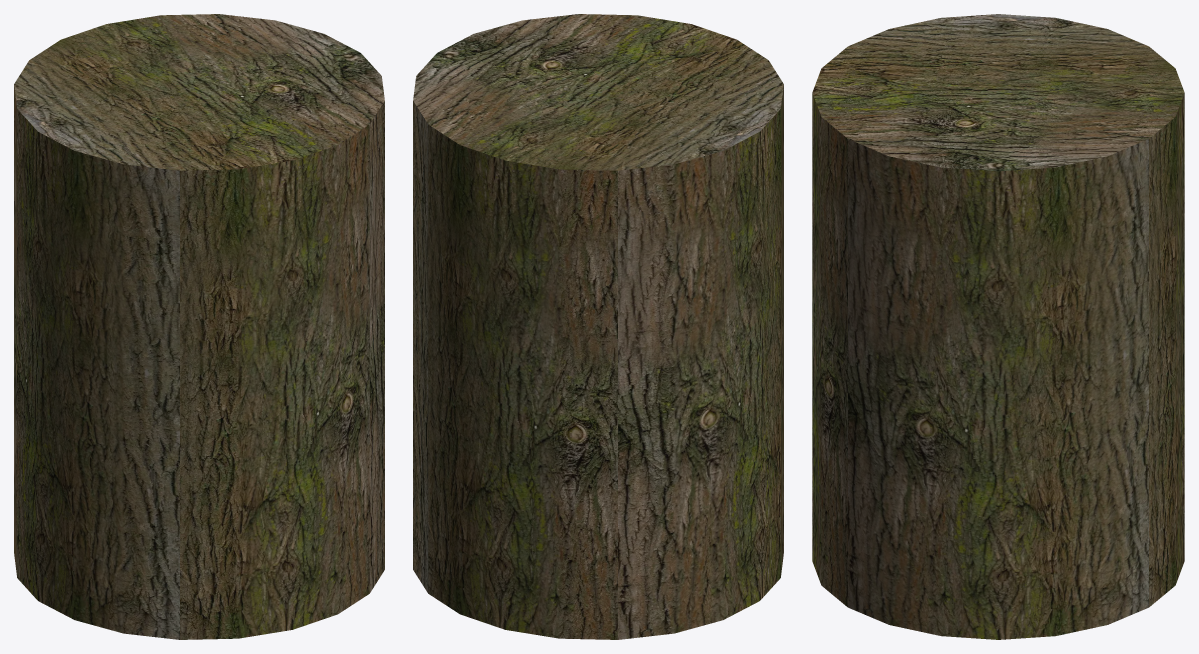
Rendered from trunk.glb.
The picture shows the model from 3 angles, left to right: view 1: azimuth 30°, elevation 25°; view 2: azimuth 150°, elevation 25°; view 3: azimuth 270°, elevation 25°; orthographic projection.
Parts seen in each view (by area): view 1: trunk; view 2: trunk; view 3: trunk.
Part boxes in pixels (left/top/right/bottom): trunk: left=14, top=14, right=384, bottom=639; trunk: left=413, top=14, right=783, bottom=639; trunk: left=812, top=14, right=1184, bottom=639.
Size of the model in its own units: 0.7201 by 1 by 0.7201.
1 material, 1 textured.
